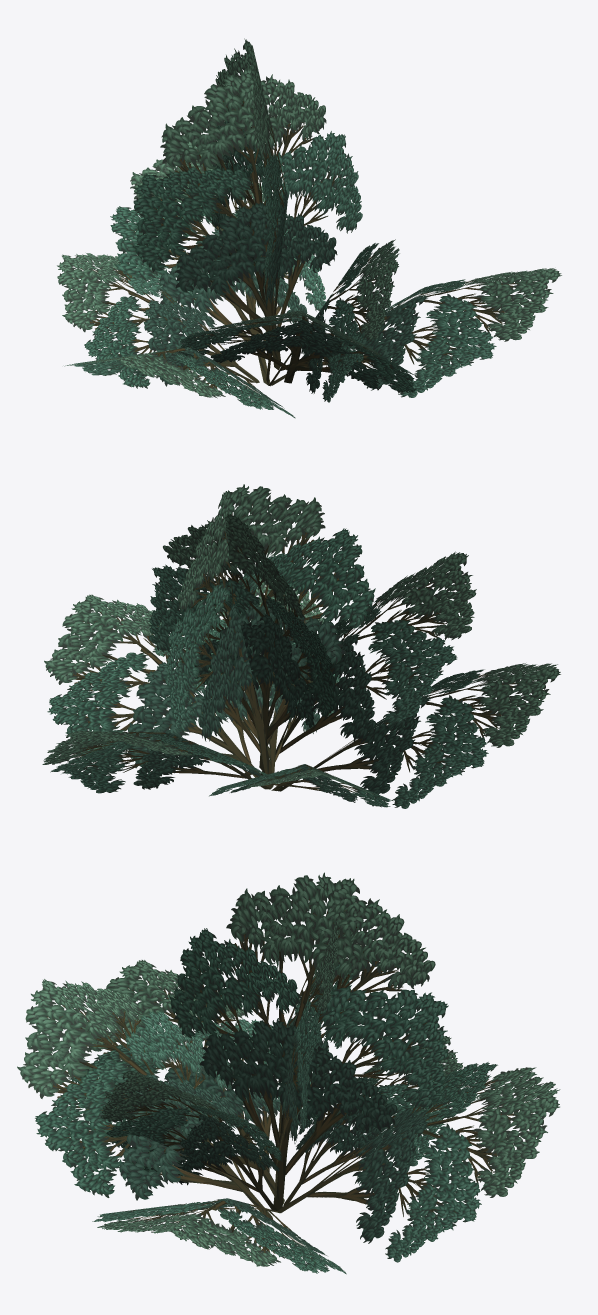
File: Bush_03.fbx
The picture shows the model from 3 angles, top to bottom: view 1: azimuth 30°, elevation 25°; view 2: azimuth 150°, elevation 25°; view 3: azimuth 270°, elevation 25°; orthographic projection. The views are drawn at different scales.
Parts seen in each view (by area): view 1: Bush_03; view 2: Bush_03; view 3: Bush_03.
Part boxes in pixels (x1,y1,x2,y2): Bush_03: (57,38,561,418); Bush_03: (42,484,560,808); Bush_03: (17,872,560,1274).
Size of the model in its own units: 4.08 by 2.7 by 3.78.
